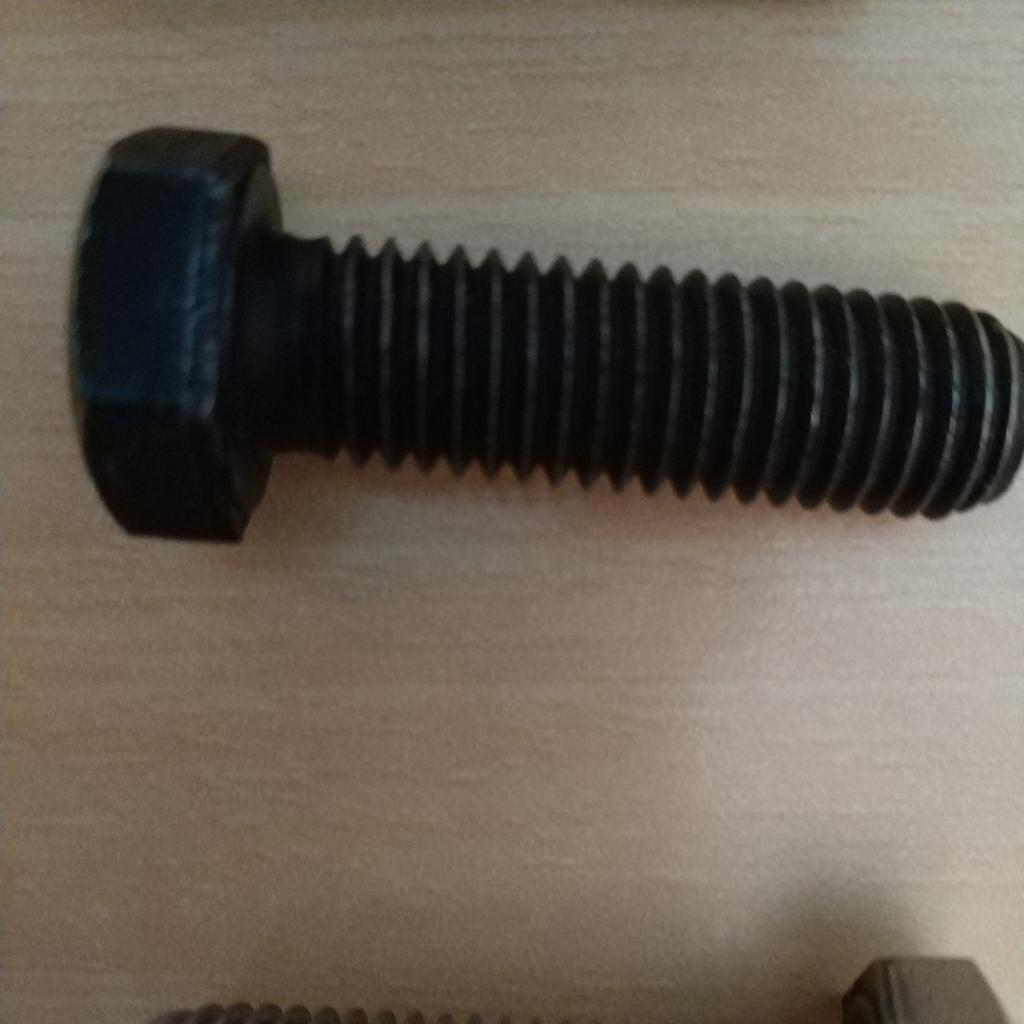screwtype2black: (59, 114, 1024, 552)
screwtype2silver: (123, 934, 1024, 1022)
